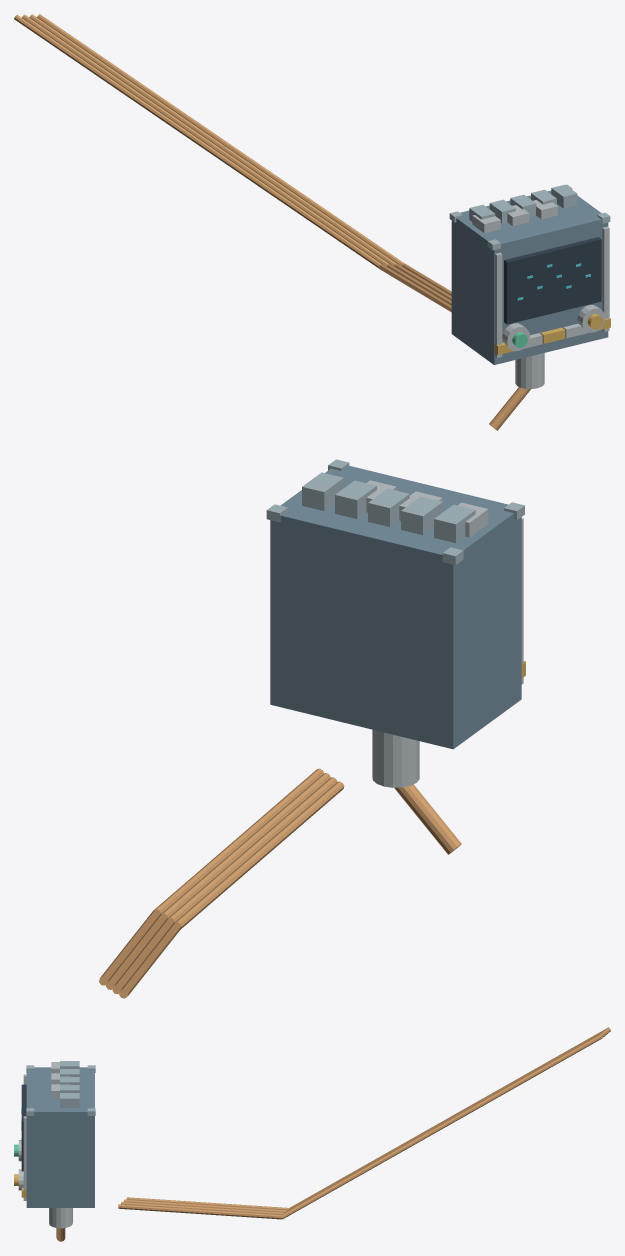
Rendered from 33_L72_WaferChuckTemperatureSensor.glb.
The picture shows the model from 3 angles, top to bottom: view 1: azimuth 30°, elevation 25°; view 2: azimuth 150°, elevation 25°; view 3: azimuth 270°, elevation 25°; orthographic projection. The views are drawn at different scales.
Visible parts, largest first — view 1: WaferChuckTemperatureSensor_Part_000, WaferChuckTemperatureSensor_Part_007, WaferChuckTemperatureSensor_Part_037, WaferChuckTemperatureSensor_Part_046, WaferChuckTemperatureSensor_Part_040, WaferChuckTemperatureSensor_Part_043, WaferChuckTemperatureSensor_Part_034, WaferChuckTemperatureSensor_Part_005, WaferChuckTemperatureSensor_Part_006, WaferChuckTemperatureSensor_Part_035; view 2: WaferChuckTemperatureSensor_Part_000, WaferChuckTemperatureSensor_Part_034, WaferChuckTemperatureSensor_Part_036, WaferChuckTemperatureSensor_Part_045, WaferChuckTemperatureSensor_Part_042, WaferChuckTemperatureSensor_Part_039, WaferChuckTemperatureSensor_Part_035, WaferChuckTemperatureSensor_Part_028, WaferChuckTemperatureSensor_Part_025, WaferChuckTemperatureSensor_Part_024, WaferChuckTemperatureSensor_Part_027, WaferChuckTemperatureSensor_Part_026 (+4 smaller); view 3: WaferChuckTemperatureSensor_Part_000, WaferChuckTemperatureSensor_Part_046, WaferChuckTemperatureSensor_Part_045, WaferChuckTemperatureSensor_Part_036, WaferChuckTemperatureSensor_Part_039, WaferChuckTemperatureSensor_Part_042, WaferChuckTemperatureSensor_Part_040, WaferChuckTemperatureSensor_Part_034, WaferChuckTemperatureSensor_Part_037, WaferChuckTemperatureSensor_Part_043, WaferChuckTemperatureSensor_Part_007, WaferChuckTemperatureSensor_Part_006.
Part boxes in pixels (x1,y1,x2,y2): WaferChuckTemperatureSensor_Part_000: (451, 190, 608, 364); WaferChuckTemperatureSensor_Part_007: (504, 237, 601, 324); WaferChuckTemperatureSensor_Part_037: (14, 15, 381, 268); WaferChuckTemperatureSensor_Part_046: (37, 14, 404, 265); WaferChuckTemperatureSensor_Part_040: (22, 14, 389, 266); WaferChuckTemperatureSensor_Part_043: (29, 14, 396, 265); WaferChuckTemperatureSensor_Part_034: (515, 353, 544, 388); WaferChuckTemperatureSensor_Part_005: (495, 252, 502, 357); WaferChuckTemperatureSensor_Part_006: (602, 226, 609, 331); WaferChuckTemperatureSensor_Part_035: (489, 387, 530, 430); WaferChuckTemperatureSensor_Part_000: (270, 465, 521, 749); WaferChuckTemperatureSensor_Part_034: (372, 729, 419, 787); WaferChuckTemperatureSensor_Part_036: (174, 781, 344, 929); WaferChuckTemperatureSensor_Part_045: (153, 768, 323, 913); WaferChuckTemperatureSensor_Part_042: (161, 773, 330, 917); WaferChuckTemperatureSensor_Part_039: (168, 777, 337, 921); WaferChuckTemperatureSensor_Part_035: (394, 784, 461, 854); WaferChuckTemperatureSensor_Part_028: (302, 472, 343, 510); WaferChuckTemperatureSensor_Part_025: (401, 496, 442, 534); WaferChuckTemperatureSensor_Part_024: (434, 504, 475, 543); WaferChuckTemperatureSensor_Part_027: (335, 480, 376, 518); WaferChuckTemperatureSensor_Part_026: (368, 488, 409, 526); WaferChuckTemperatureSensor_Part_000: (26, 1067, 94, 1207); WaferChuckTemperatureSensor_Part_046: (281, 1034, 602, 1218); WaferChuckTemperatureSensor_Part_045: (118, 1204, 281, 1219); WaferChuckTemperatureSensor_Part_036: (126, 1197, 289, 1210); WaferChuckTemperatureSensor_Part_039: (123, 1199, 286, 1212); WaferChuckTemperatureSensor_Part_042: (121, 1202, 284, 1214); WaferChuckTemperatureSensor_Part_040: (287, 1029, 608, 1210); WaferChuckTemperatureSensor_Part_034: (49, 1208, 72, 1228); WaferChuckTemperatureSensor_Part_037: (290, 1027, 610, 1207); WaferChuckTemperatureSensor_Part_043: (284, 1032, 605, 1212); WaferChuckTemperatureSensor_Part_007: (21, 1084, 26, 1171); WaferChuckTemperatureSensor_Part_006: (23, 1116, 26, 1200).
Size of the model in its own units: 0.9132 by 0.8138 by 2.52.
